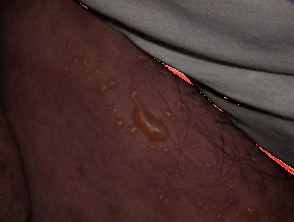SJS-TEN: (31, 3, 272, 222)
